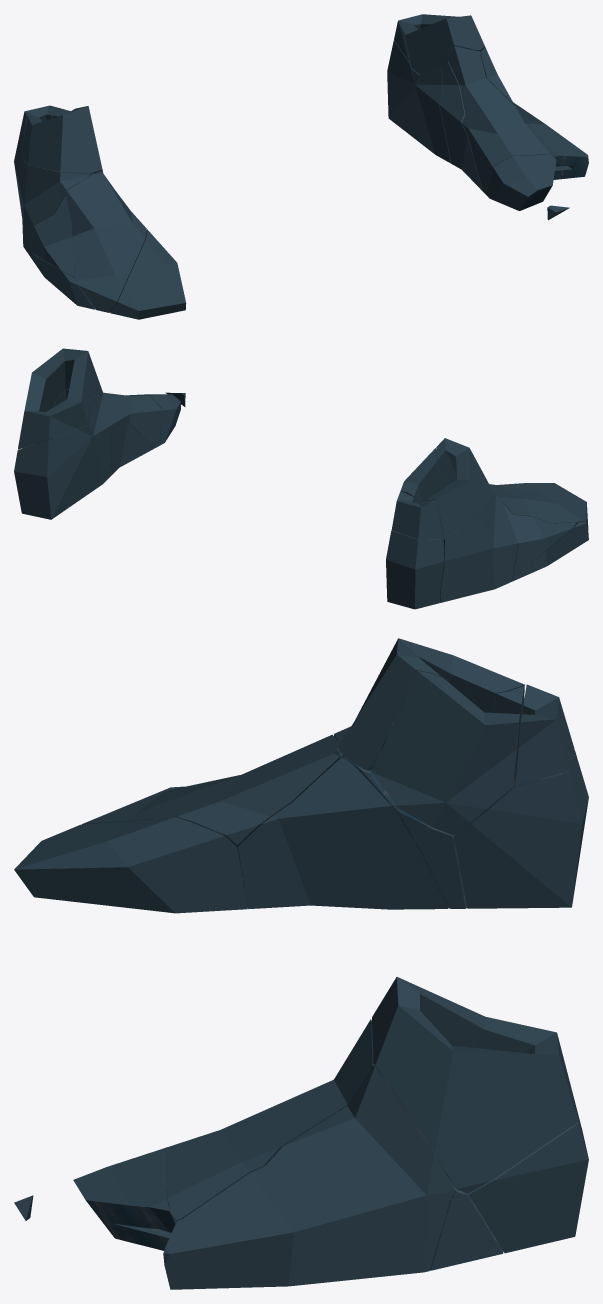
File:  botas roto.fbx
3 views of the same model, one above another, from view 1: azimuth 30°, elevation 25°; view 2: azimuth 150°, elevation 25°; view 3: azimuth 270°, elevation 25° (orthographic). The views are drawn at different scales.
Visible parts, largest first — view 1: male.003_cell.016, male.003_cell.001, male.003_cell.005, male.003_cell.019, male.003_cell, male.003_cell.004, male.003_cell.018, male.003_cell.009, male.003_cell.017, male.003_cell.007, male.003_cell.011, male.003_cell.014 (+2 smaller); view 2: male.003_cell.018, male.003_cell, male.003_cell.014, male.003_cell.002, male.003_cell.005, male.003_cell.016, male.003_cell.009, male.003_cell.011, male.003_cell.001, male.003_cell.017, male.003_cell.015, male.003_cell.006 (+3 smaller); view 3: male.003_cell.007, male.003_cell, male.003_cell.003, male.003_cell.019, male.003_cell.012, male.003_cell.002, male.003_cell.001, male.003_cell.016, male.003_cell.014, male.003_cell.005, male.003_cell.004, male.003_cell.015 (+2 smaller).
Boxes of the visible parts, x1,y1,x2,y2 form: male.003_cell.016: (65, 170, 146, 312); male.003_cell.001: (448, 46, 558, 193); male.003_cell.005: (21, 106, 102, 173); male.003_cell.019: (110, 229, 186, 319); male.003_cell: (394, 14, 485, 74); male.003_cell.004: (485, 154, 556, 210); male.003_cell.018: (17, 158, 93, 255); male.003_cell.009: (405, 67, 450, 163); male.003_cell.017: (439, 61, 482, 191); male.003_cell.007: (480, 47, 588, 179); male.003_cell.011: (31, 196, 74, 276); male.003_cell.014: (387, 40, 420, 130); male.003_cell.018: (440, 490, 517, 602); male.003_cell: (18, 348, 94, 449); male.003_cell.014: (14, 425, 91, 519); male.003_cell.002: (386, 530, 444, 609); male.003_cell.005: (436, 438, 491, 538); male.003_cell.016: (489, 484, 588, 528); male.003_cell.009: (22, 398, 112, 506); male.003_cell.011: (503, 503, 576, 575); male.003_cell.001: (94, 368, 163, 448); male.003_cell.017: (66, 388, 153, 474); male.003_cell.015: (391, 491, 443, 539); male.003_cell.006: (511, 521, 588, 581); male.003_cell.007: (163, 1065, 455, 1289); male.003_cell: (372, 977, 577, 1193); male.003_cell.003: (237, 757, 448, 909); male.003_cell.019: (14, 817, 247, 913); male.003_cell.012: (371, 670, 520, 835); male.003_cell.002: (454, 750, 588, 908); male.003_cell.001: (164, 1019, 373, 1222); male.003_cell.016: (82, 734, 343, 848); male.003_cell.014: (468, 1070, 588, 1253); male.003_cell.005: (337, 638, 524, 770); male.003_cell.004: (73, 1148, 175, 1250); male.003_cell.015: (515, 684, 574, 785).
Size of the model in its own units: 165 by 40.08 by 85.69.
1 material, 1 textured.
